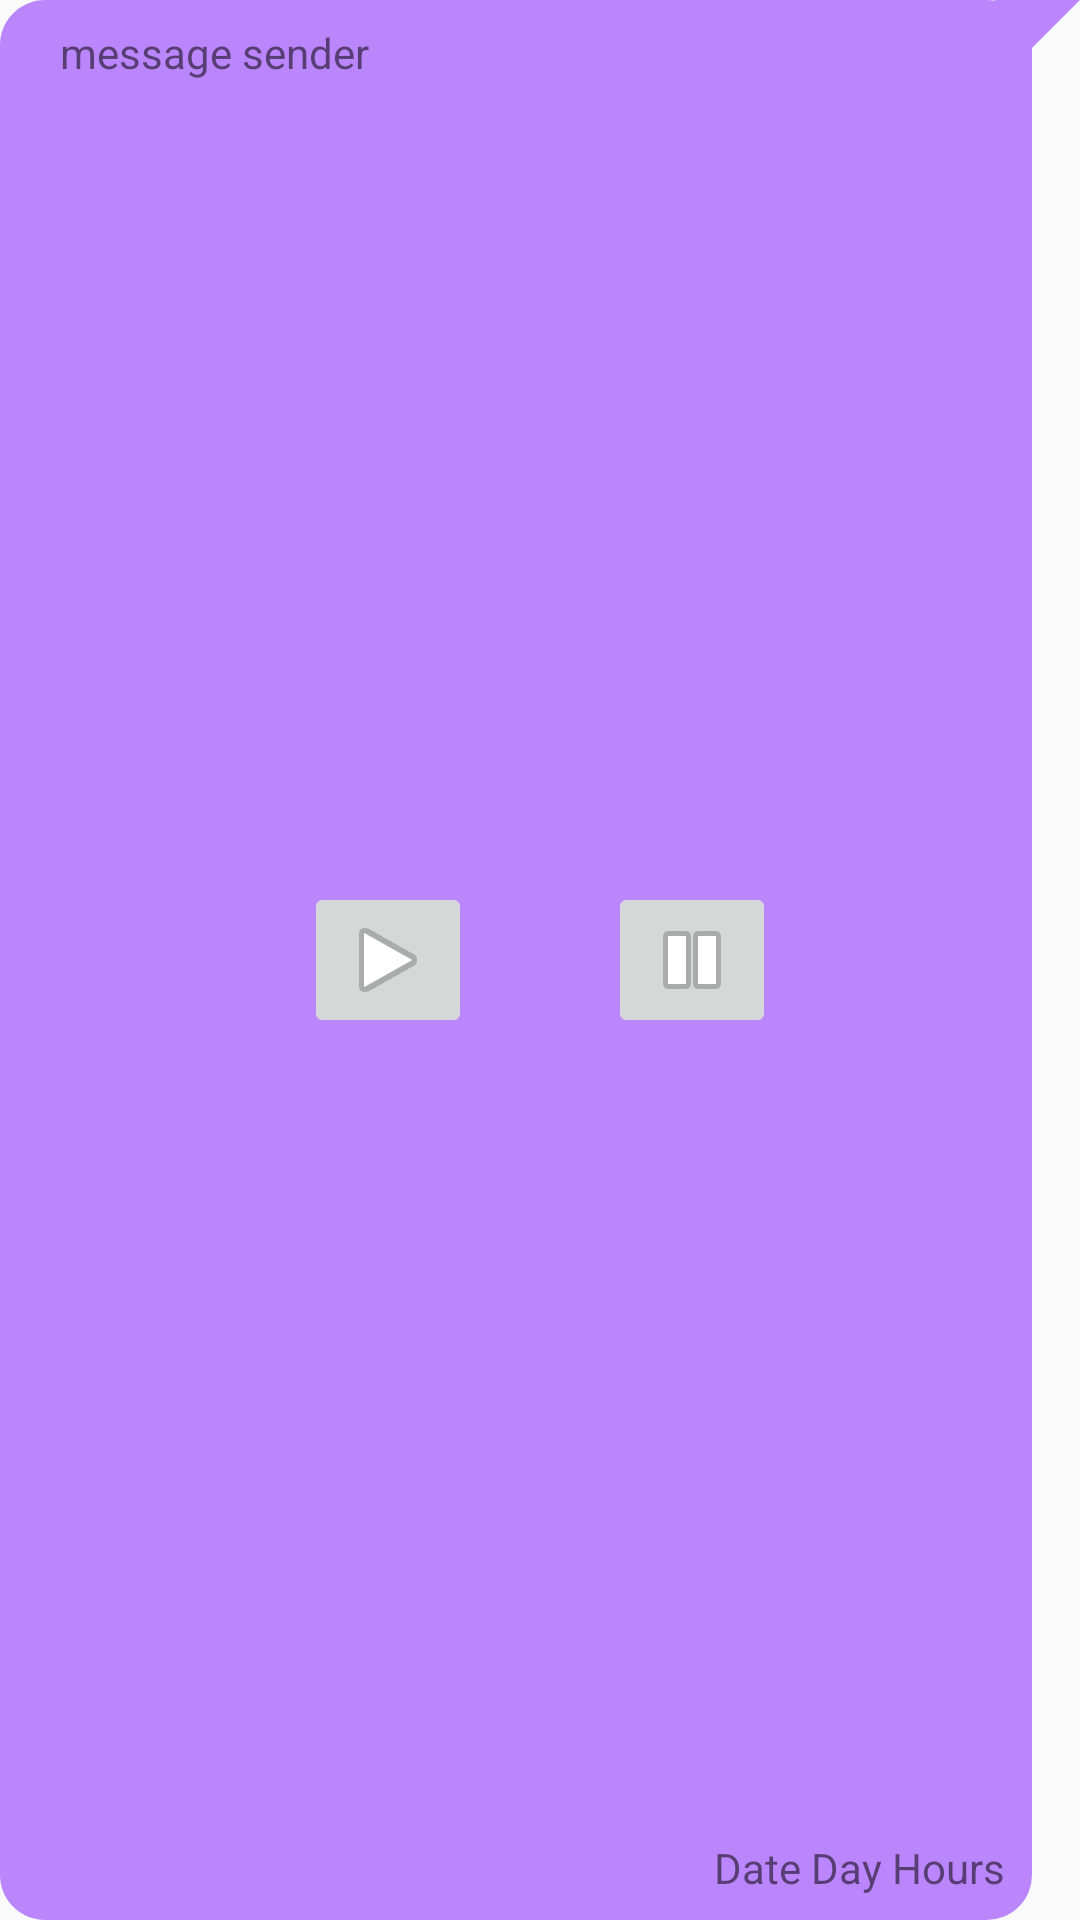

Named icons in this screenshot (1080*1920) and their bounding boxes, (x1, y1, x2, y2):
pause: (620, 900, 764, 1020)
play: (316, 900, 460, 1020)
